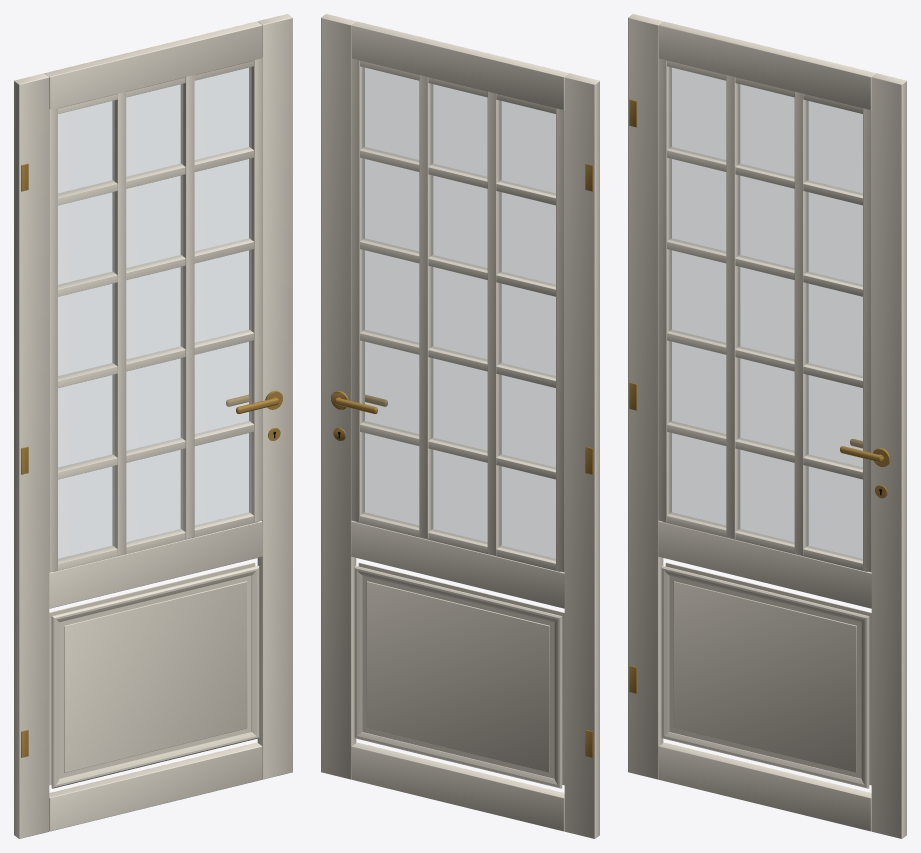
Rendered from rpg-mansion-door-glazed-01.glb.
The picture shows the model from 3 angles, left to right: view 1: azimuth 30°, elevation 25°; view 2: azimuth 150°, elevation 25°; view 3: azimuth 330°, elevation 25°; orthographic projection.
Parts seen in each view (by area): view 1: rpg-mansion-door-glazed-01; view 2: rpg-mansion-door-glazed-01; view 3: rpg-mansion-door-glazed-01.
Part boxes in pixels (x1,y1,x2,y2): rpg-mansion-door-glazed-01: (14, 14, 292, 838); rpg-mansion-door-glazed-01: (321, 14, 599, 838); rpg-mansion-door-glazed-01: (628, 14, 906, 838).
Bounding box in the file's own units: 0.76 × 2 × 0.06.
